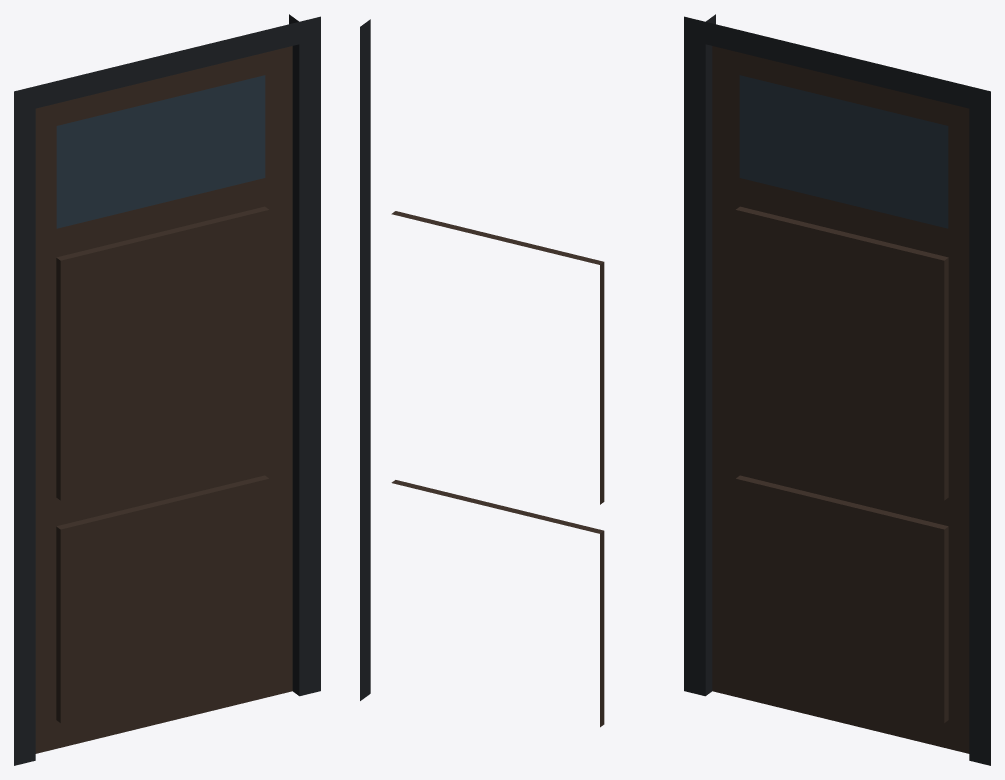
The model's file is door.glb.
The picture shows the model from 3 angles, left to right: view 1: azimuth 30°, elevation 25°; view 2: azimuth 150°, elevation 25°; view 3: azimuth 330°, elevation 25°; orthographic projection.
Size of the model in its own units: 1 by 2.1 by 0.06.
